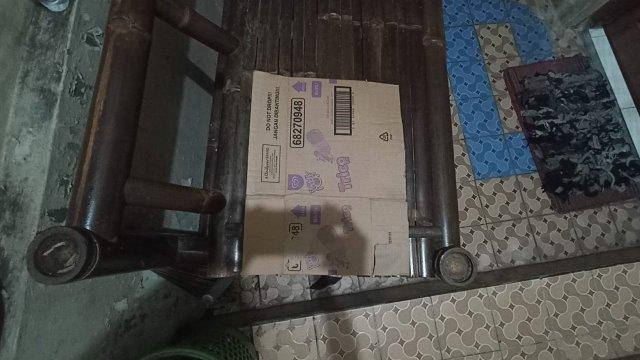kardus: (243, 72, 408, 274)
